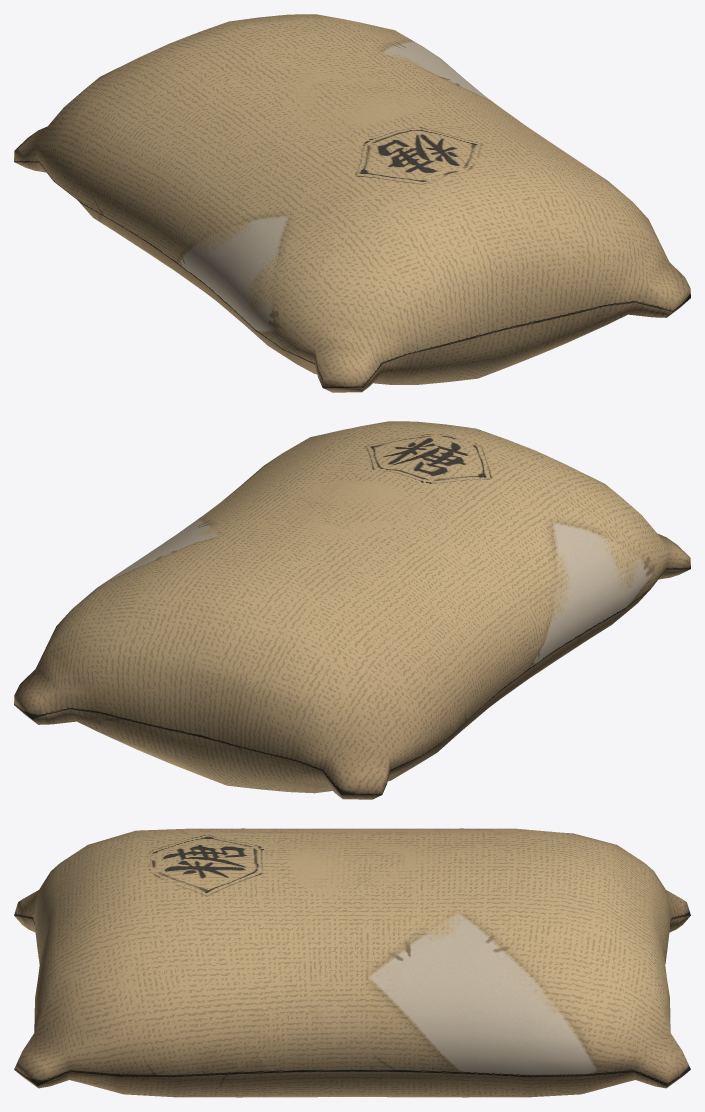
Rendered from sugar.fbx.
The picture shows the model from 3 angles, top to bottom: view 1: azimuth 30°, elevation 25°; view 2: azimuth 150°, elevation 25°; view 3: azimuth 270°, elevation 25°; orthographic projection. The views are drawn at different scales.
Visible parts, largest first — view 1: Box001; view 2: Box001; view 3: Box001.
Part boxes in pixels (box(x1,y1,x2,y2)): Box001: box(14, 14, 690, 392); Box001: box(14, 421, 690, 799); Box001: box(14, 828, 690, 1097).
Size of the model in its own units: 46.1 by 23.49 by 69.81.
Materials: 1 (1 with a texture image).
